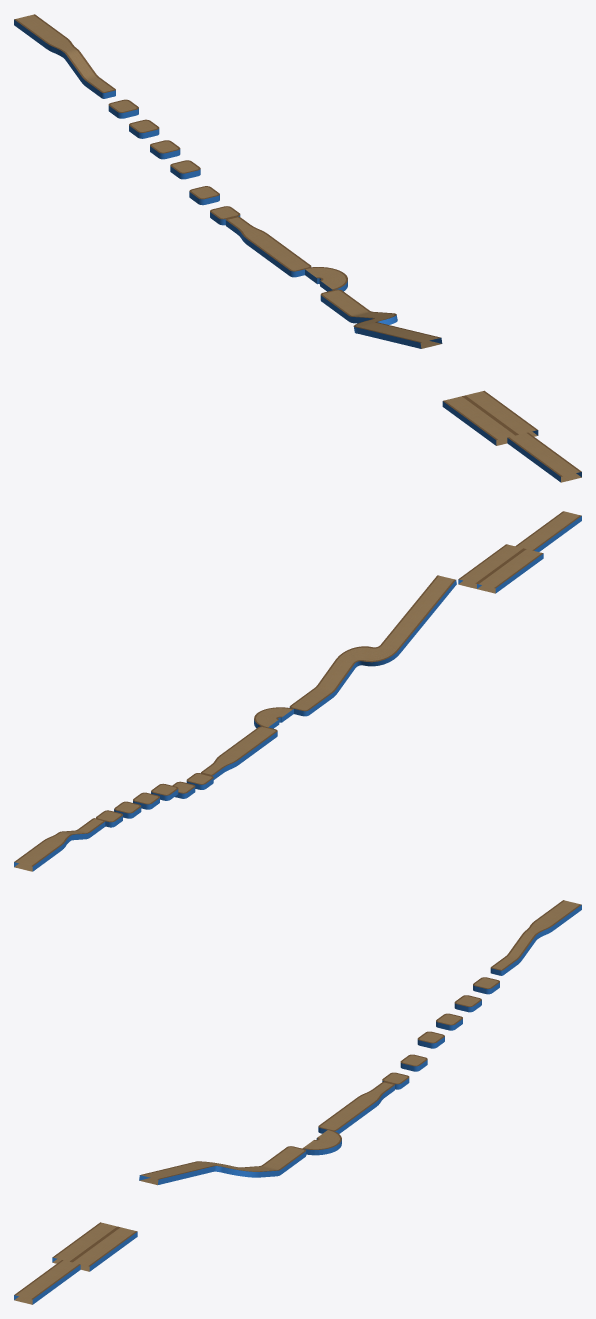
Rendered from ramp_10.FBX.
3 renders of one model, top to bottom at view 1: azimuth 30°, elevation 25°; view 2: azimuth 150°, elevation 25°; view 3: azimuth 330°, elevation 25°, orthographic. The views are drawn at different scales.
Parts seen in each view (by area): view 1: ramp_10, round; view 2: ramp_10, round; view 3: ramp_10, round.
Boxes of the visible parts, x1=… form: ramp_10: x1=14, y1=14, x2=581, y2=482; round: x1=304, y1=267, x2=347, y2=291; ramp_10: x1=14, y1=511, x2=581, y2=871; round: x1=254, y1=707, x2=293, y2=728; ramp_10: x1=14, y1=900, x2=581, y2=1304; round: x1=302, y1=1129, x2=341, y2=1155.
Size of the model in its own units: 1798 by 1296 by 21604.
